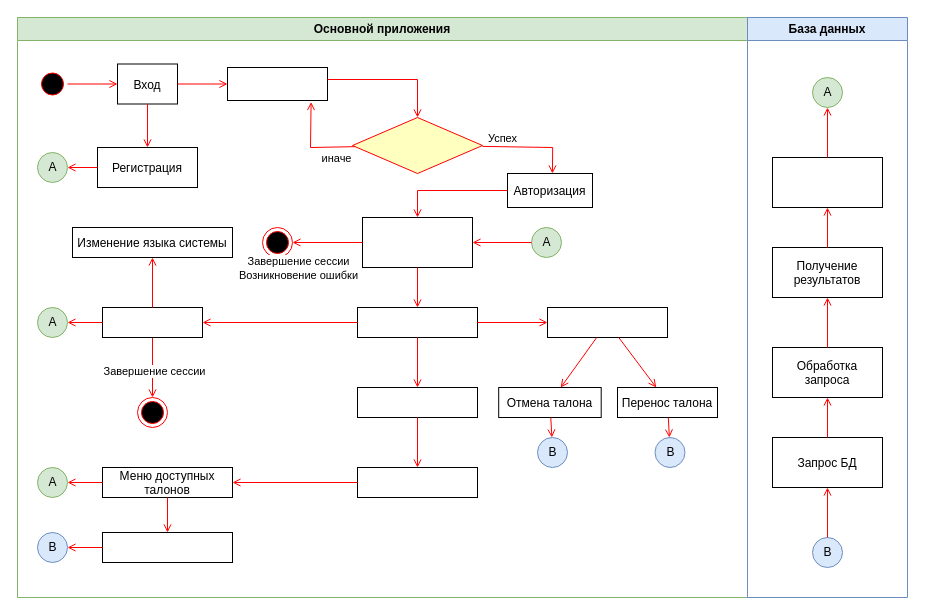
This 925x615 diagram has some shape labels left out. Each missing label, with the centre of its shape:
"Аутентификация" belongs at point 417,145.
"Доступ к приложению" belongs at point 417,242.
"Заказ талона" belongs at point 167,547.
"Идентификация" belongs at point 277,83.
"Меню врачей" belongs at point 417,482.
"Меню заказанных талонов" belongs at point 607,322.
"Меню поликлиник" belongs at point 417,402.
"Меню профиля" belongs at point 152,322.
"Переход в меню" belongs at point 417,322.
"Уведомление пользователя" belongs at point 827,182.
